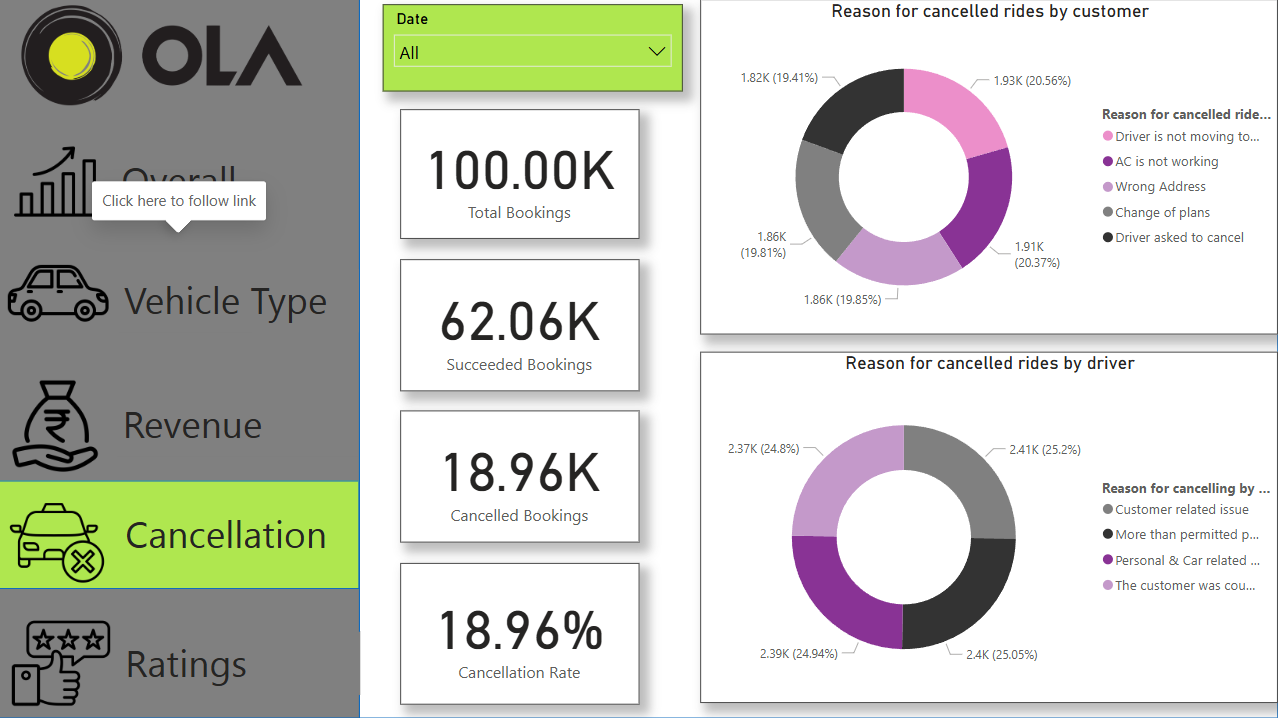

Layout of this report page (visuals, bound fields, positions):
{"tool":"powerbi","page":{"name":"Cancellation","canvas":[1280,720],"ordinal":3},"visuals":[{"type":"shape","box":[0,0,360.9,720.4],"z":0},{"type":"image","title":"logo","box":[0,2.9,325.7,110],"z":1000},{"type":"shape","box":[360.3,0,919.2,720.5],"z":2000},{"type":"slicer","fields":{"Values":["bangalore_ride_data_Jan25.Date"]},"box":[383.1,6.2,299.8,87.1],"z":3000},{"type":"textbox","title":"Text box1","box":[117.7,151.6,240.3,62.9],"z":4000},{"type":"image","title":"Image1","box":[0,128.3,118.3,110],"z":5000},{"type":"actionButton","title":"Button1","box":[0,129.1,360.4,109.8],"z":6000},{"type":"textbox","title":"Text box2","box":[120.1,271.7,240.1,63.2],"z":7000},{"type":"image","title":"Image2","box":[0,240.1,118.5,110.6],"z":8000},{"type":"actionButton","title":"Button2","box":[0,240.1,360.2,110.6],"z":9000},{"type":"textbox","title":"Text box3","box":[118.5,395,240.1,63.2],"z":10000},{"type":"image","title":"Image3","box":[0,370,116.7,110],"z":11000},{"type":"actionButton","title":"Button3","box":[0,371.3,360.2,110.6],"z":12000},{"type":"shape","title":"Shape4","box":[0,482.8,360.3,108.5],"z":13000},{"type":"textbox","title":"Text box4","box":[121.7,505.6,240.1,63.2],"z":14000},{"type":"image","title":"Image4","box":[0,490,116.7,110],"z":15000},{"type":"actionButton","title":"Button4","box":[0,481.9,360.2,110.6],"z":16000},{"type":"textbox","title":"Text box5","box":[121.7,633.5,240.1,63.2],"z":17000},{"type":"image","title":"Image5","box":[0,611.7,123.3,108.3],"z":18000},{"type":"actionButton","title":"Button5","box":[0,609.8,360.2,110.6],"z":19000},{"type":"donutChart","title":"Reason for cancelled rides by customer","fields":{"Category":["bangalore_ride_data_Jan25.Reason for cancelling by Customer"],"Y":["CountNonNull(bangalore_ride_data_Jan25.Customer ID)"]},"box":[701.7,1.7,578,335.6],"z":20000},{"type":"donutChart","title":"Reason for cancelled rides by driver","fields":{"Y":["CountNonNull(bangalore_ride_data_Jan25.Customer ID)"],"Category":["bangalore_ride_data_Jan25.Reason for cancelling by Driver"]},"box":[701.7,354.2,578,350.8],"z":21000},{"type":"card","fields":{"Values":["CountNonNull(bangalore_ride_data_Jan25.Booking ID)"]},"box":[401.8,413,238.8,131.9],"z":22000},{"type":"card","fields":{"Values":["bangalore_ride_data_Jan25.cancellation rate"]},"box":[401.8,564.8,238.8,141.8],"z":23000},{"type":"card","fields":{"Values":["CountNonNull(bangalore_ride_data_Jan25.Booking ID)"]},"box":[401.8,261.2,238.8,131.9],"z":24000},{"type":"card","fields":{"Values":["CountNonNull(bangalore_ride_data_Jan25.Booking ID)"]},"box":[401.8,110.7,238.8,129.4],"z":25000}]}

Visuals, with their boxes in screenshot pixels (x1, y1, x2, y2), scaled from the page's 1280x720 canvas onto the 1278x718 screenshot:
shape: select_region(0, 0, 360, 717)
"logo" image: select_region(0, 3, 325, 113)
shape: select_region(360, 0, 1277, 717)
slicer - bangalore_ride_data_Jan25.Date: select_region(383, 6, 682, 93)
"Text box1" textbox: select_region(118, 151, 357, 214)
"Image1" image: select_region(0, 128, 118, 238)
"Button1" actionButton: select_region(0, 129, 360, 238)
"Text box2" textbox: select_region(120, 271, 360, 334)
"Image2" image: select_region(0, 239, 118, 350)
"Button2" actionButton: select_region(0, 239, 360, 350)
"Text box3" textbox: select_region(118, 394, 358, 457)
"Image3" image: select_region(0, 369, 117, 479)
"Button3" actionButton: select_region(0, 370, 360, 481)
"Shape4" shape: select_region(0, 481, 360, 590)
"Text box4" textbox: select_region(122, 504, 361, 567)
"Image4" image: select_region(0, 489, 117, 598)
"Button4" actionButton: select_region(0, 481, 360, 591)
"Text box5" textbox: select_region(122, 632, 361, 695)
"Image5" image: select_region(0, 610, 123, 717)
"Button5" actionButton: select_region(0, 608, 360, 717)
"Reason for cancelled rides by customer" donutChart: select_region(701, 2, 1277, 336)
"Reason for cancelled rides by driver" donutChart: select_region(701, 353, 1277, 703)
card - CountNonNull(bangalore_ride_data_Jan25.Booking ID): select_region(401, 412, 640, 543)
card - bangalore_ride_data_Jan25.cancellation rate: select_region(401, 563, 640, 705)
card - CountNonNull(bangalore_ride_data_Jan25.Booking ID): select_region(401, 260, 640, 392)
card - CountNonNull(bangalore_ride_data_Jan25.Booking ID): select_region(401, 110, 640, 239)
